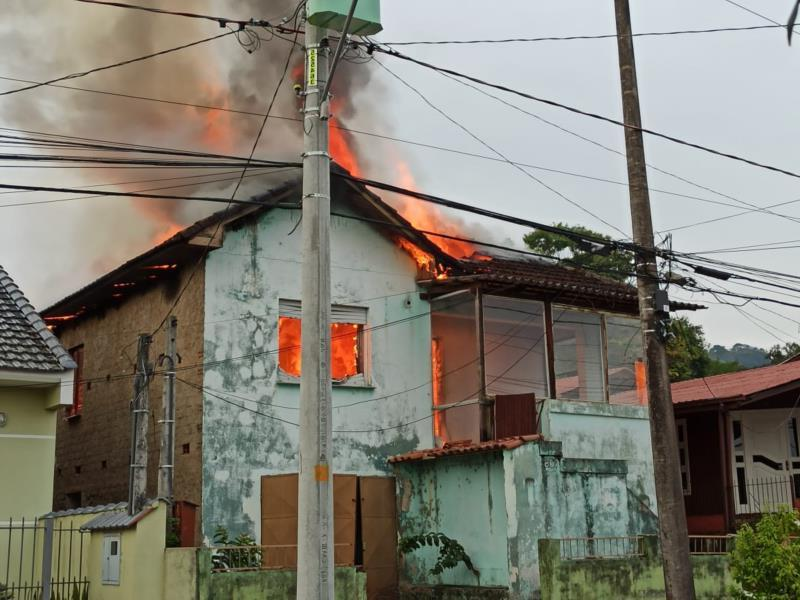Fire: (384, 169, 503, 284), (327, 322, 366, 378), (330, 115, 364, 178), (431, 338, 446, 441), (279, 315, 303, 377), (155, 222, 191, 244)
